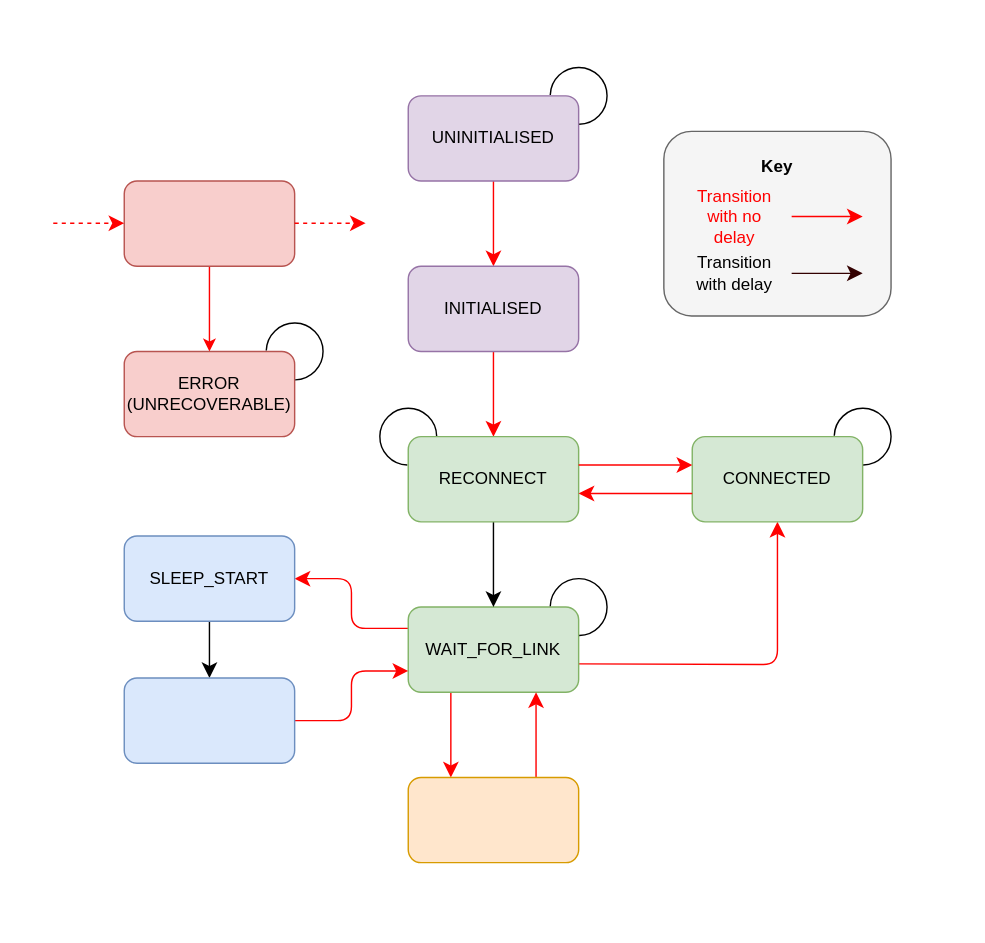
This 985x943 diagram has some shape labels left out. The shapes that lost their labels are listed below. From the top down, each one's centre as x and y in pixels, then its label:
At pixel 209 223: "ERROR (RECOVERABLE)".
At pixel 209 720: "SLEEP_STOP".
At pixel 493 819: "SELF_TEST".
